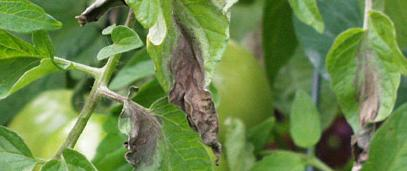Tomato leaf late blight: (102, 0, 238, 163), (312, 10, 407, 171), (102, 89, 236, 171)
